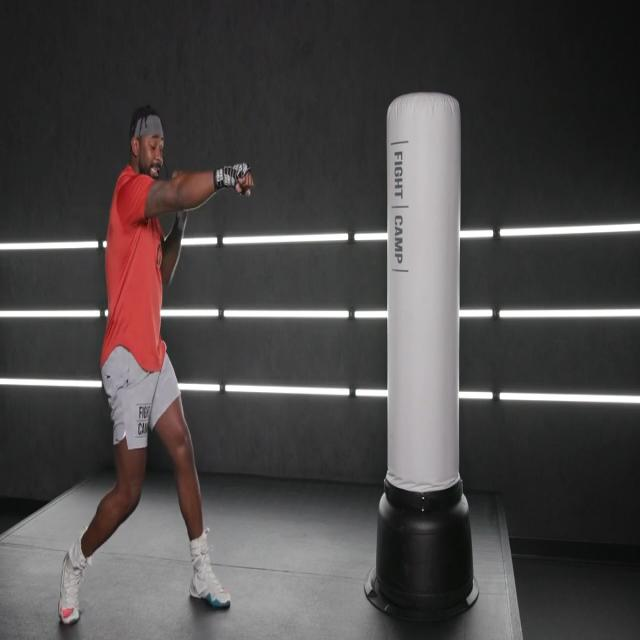Cross: (50, 156, 255, 628)
